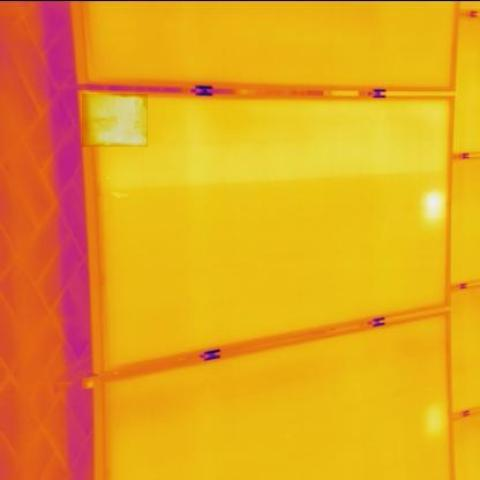fault: (82, 94, 148, 147), (422, 192, 446, 218)
